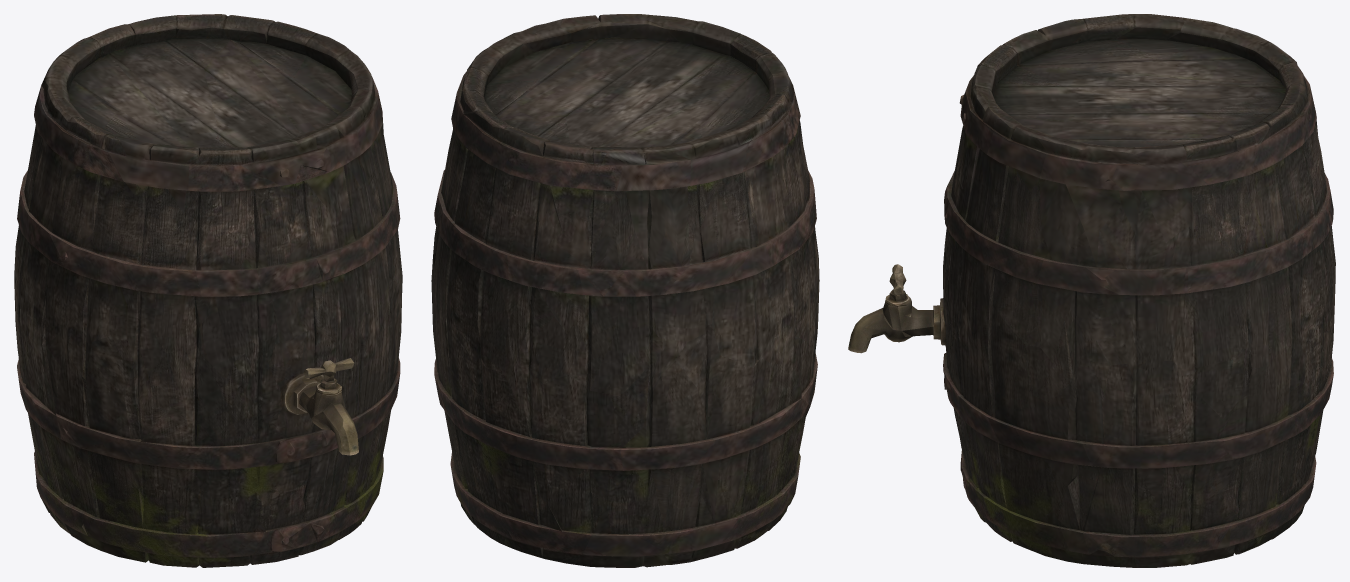
Rendered from sp_m_barrel.glb.
3 views of the same model, side by side, from view 1: azimuth 30°, elevation 25°; view 2: azimuth 150°, elevation 25°; view 3: azimuth 270°, elevation 25° (orthographic).
Visible parts, largest first — view 1: Mesh_0; view 2: Mesh_0; view 3: Mesh_0.
Part boxes in pixels (left/top/right/bottom): Mesh_0: left=14, top=14, right=402, bottom=567; Mesh_0: left=431, top=14, right=819, bottom=567; Mesh_0: left=848, top=14, right=1335, bottom=567.
Bounding box in the file's own units: 1.52 × 1.8 × 1.9.
1 material, 1 textured.
